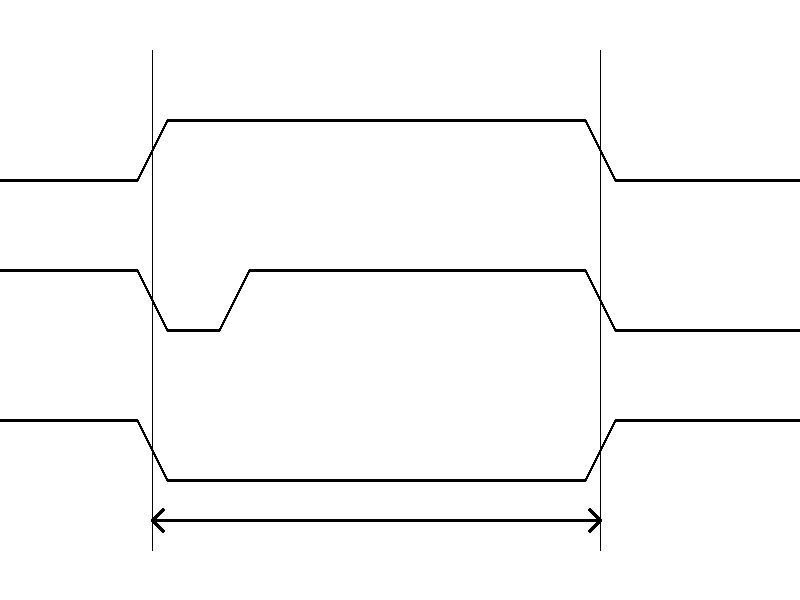double_arrow: (152, 505, 600, 535)
